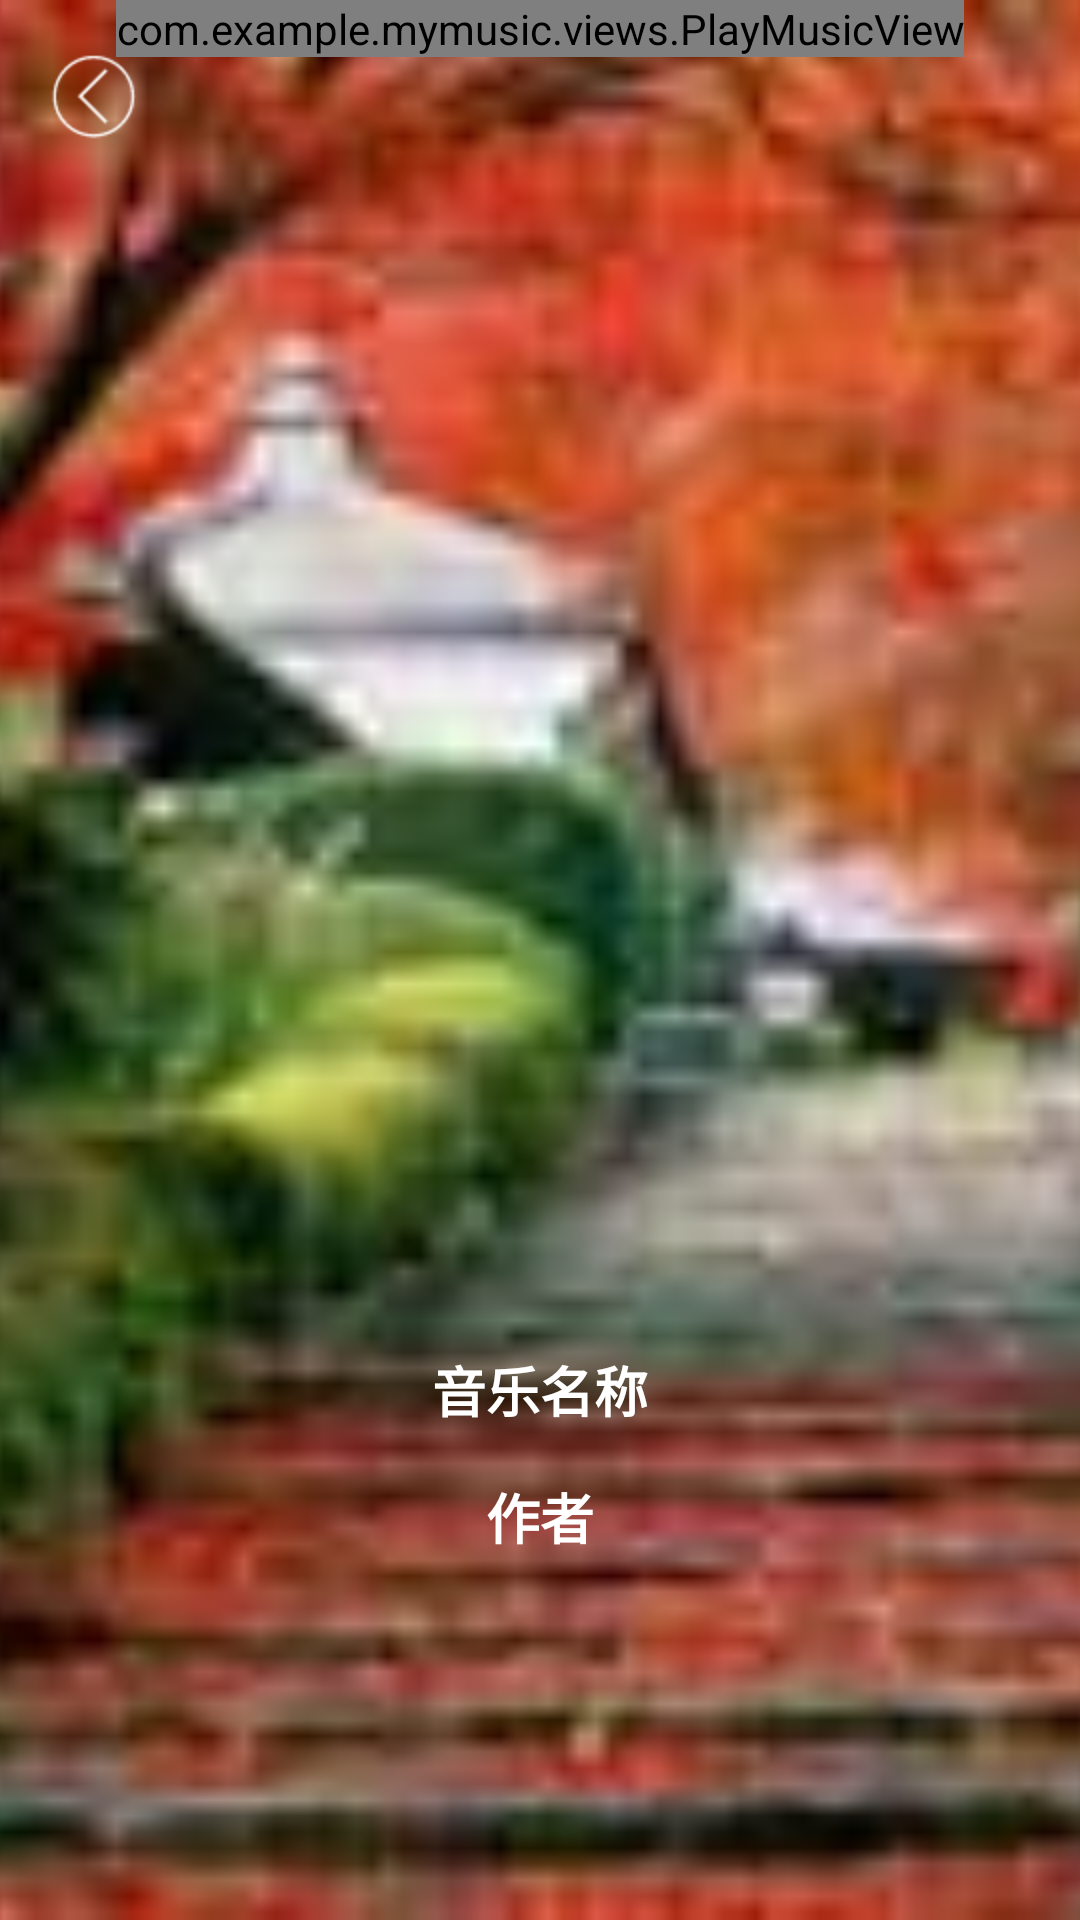

Screen size 1080 × 1920. Icon name, then its center in pixels as [x,y]:
nobar back: [96,96]
